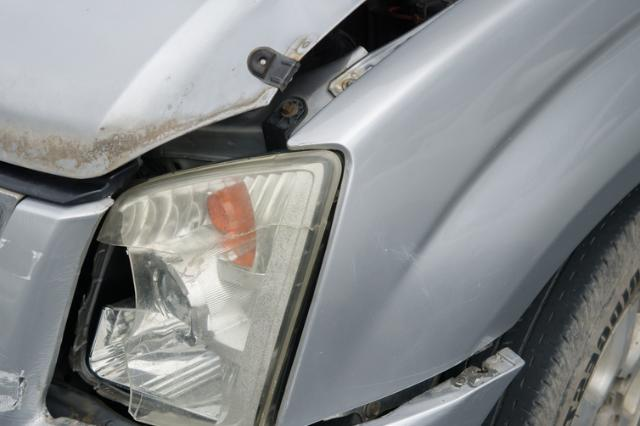Bonnet: (0, 0, 478, 200)
Bumper: (0, 178, 114, 426), (282, 334, 541, 426)
Light: (47, 155, 342, 426)
